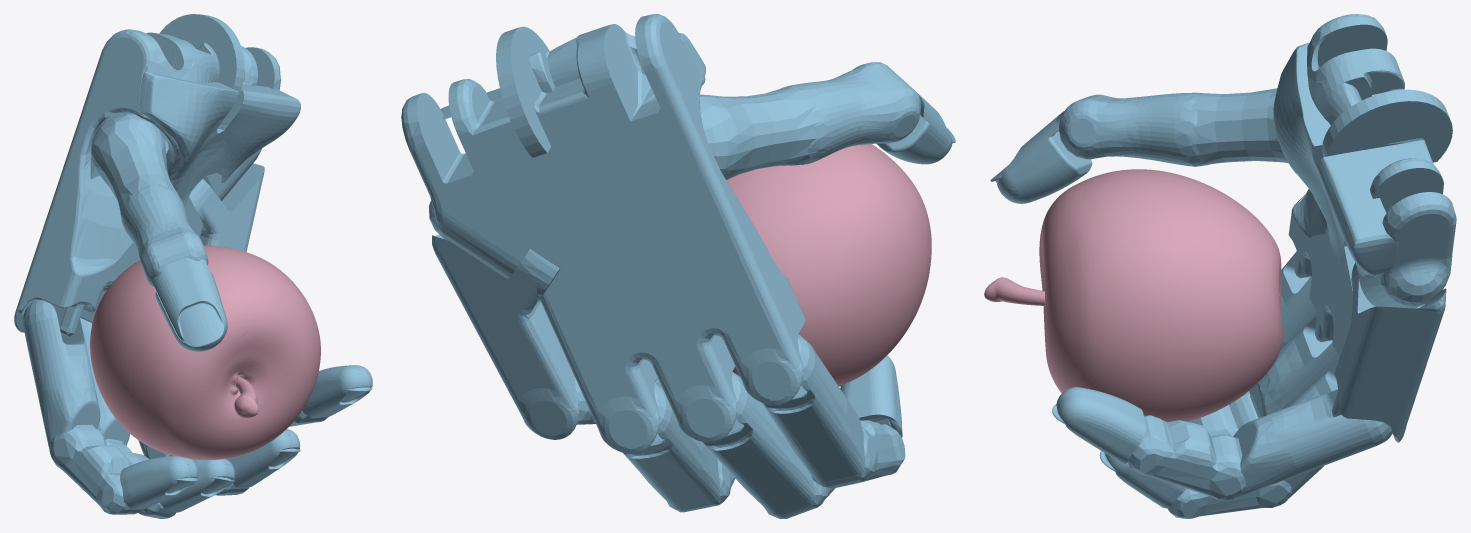
File: ShadowHand_contactdb+apple_mesh.glb
3 views of the same model, side by side, from view 1: azimuth 30°, elevation 25°; view 2: azimuth 150°, elevation 25°; view 3: azimuth 270°, elevation 25° (orthographic). The views are drawn at different scales.
Parts seen in each view (by area): view 1: world; view 2: world; view 3: world.
Part boxes in pixels (<box>): world: <box>14,14,372,518</box>; world: <box>401,14,955,518</box>; world: <box>984,14,1456,518</box>.
Bounding box in the file's own units: 0.1179 × 0.1592 × 0.1396.
